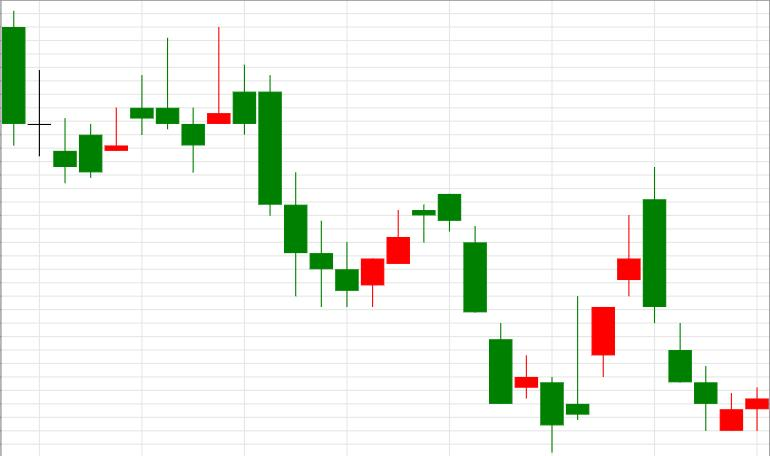bearish_engulfing_fall: (541, 166, 666, 452)
three_black_crows_fall: (335, 194, 512, 404)
